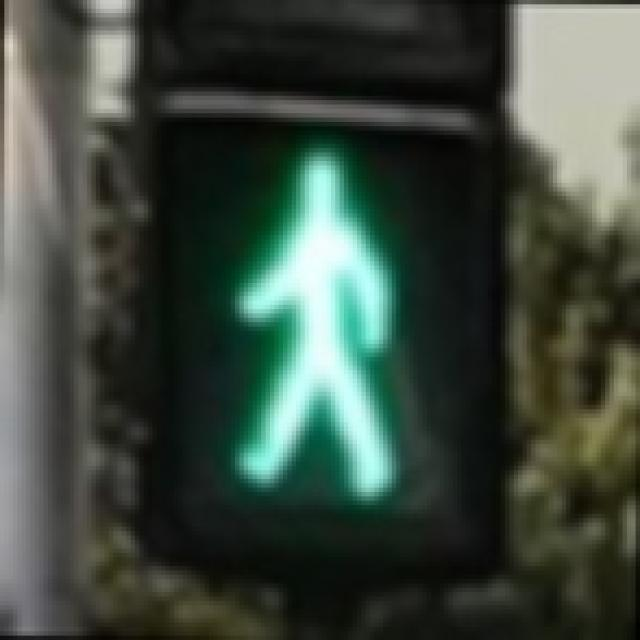geen-crossing: (148, 96, 479, 532)
